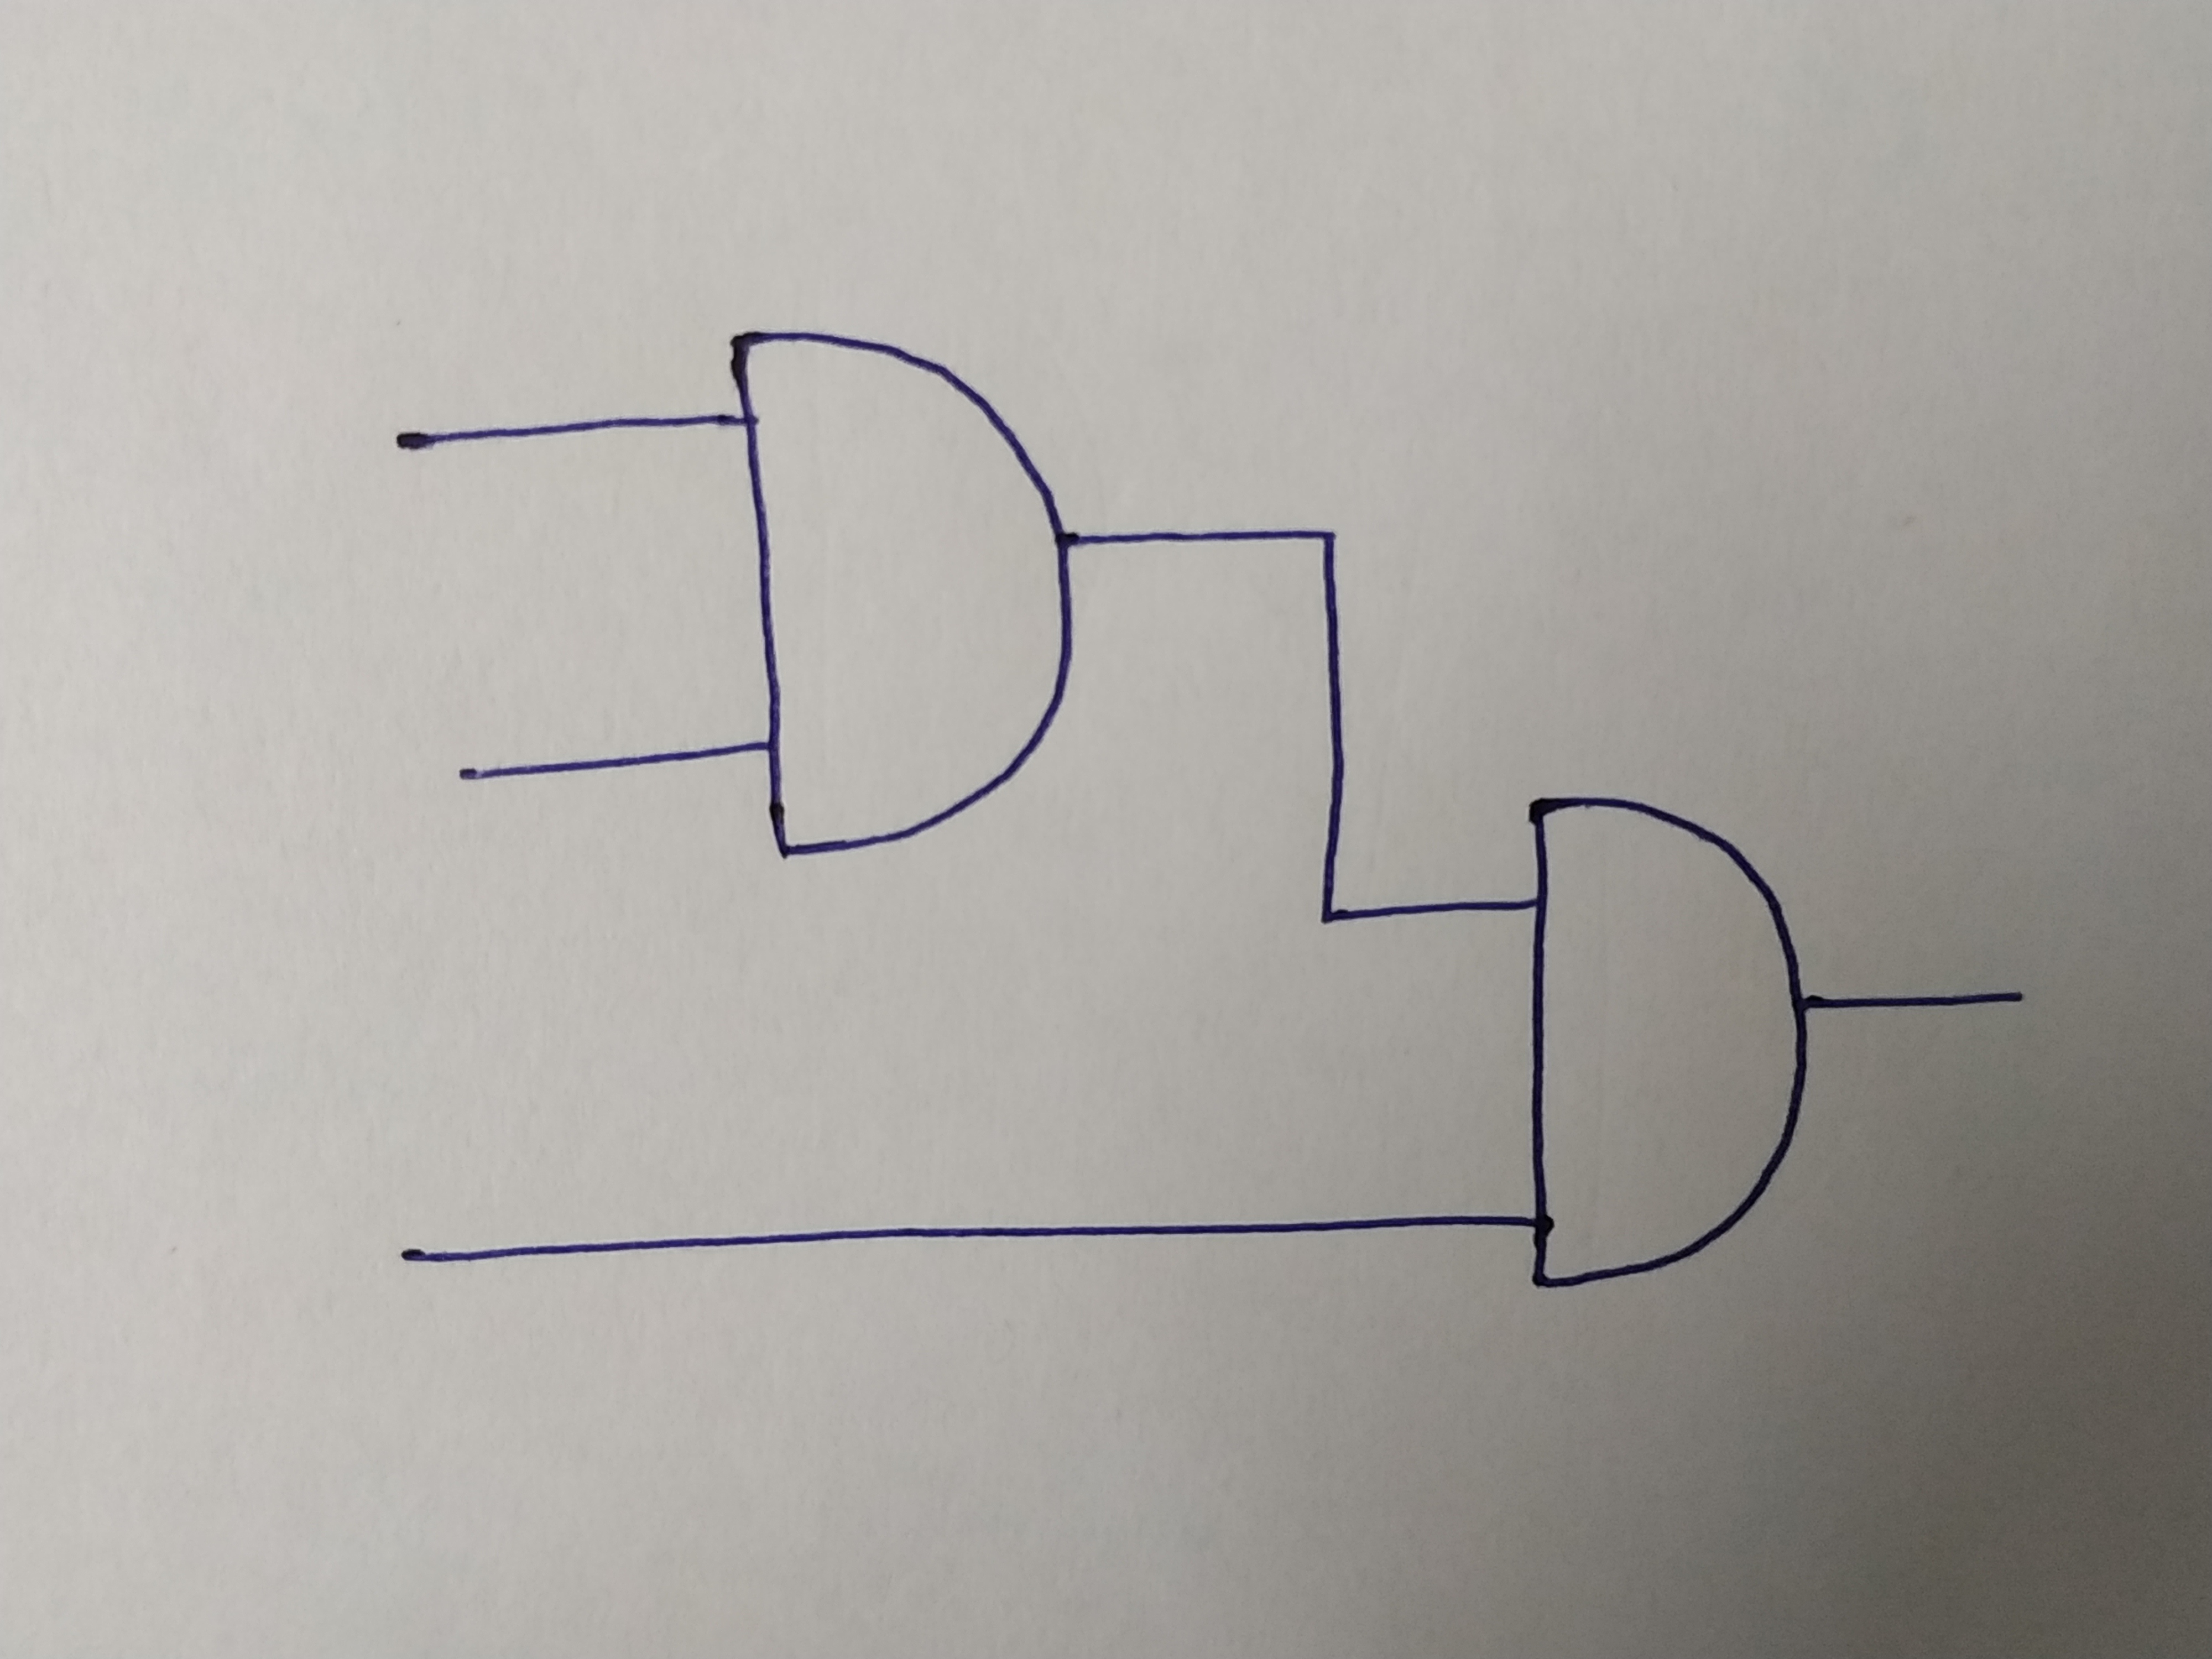and: (728, 328, 1075, 859), (1531, 795, 1804, 1293)
